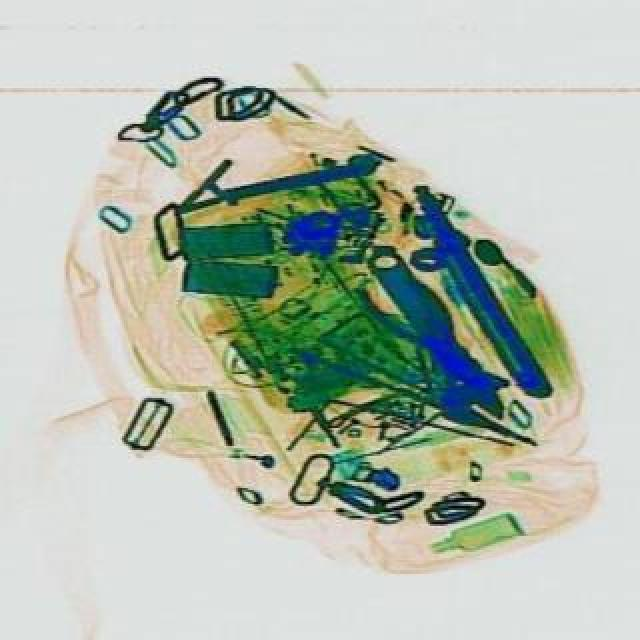scissors: (348, 234, 510, 442)
wrench: (302, 330, 540, 452), (348, 256, 490, 400)
